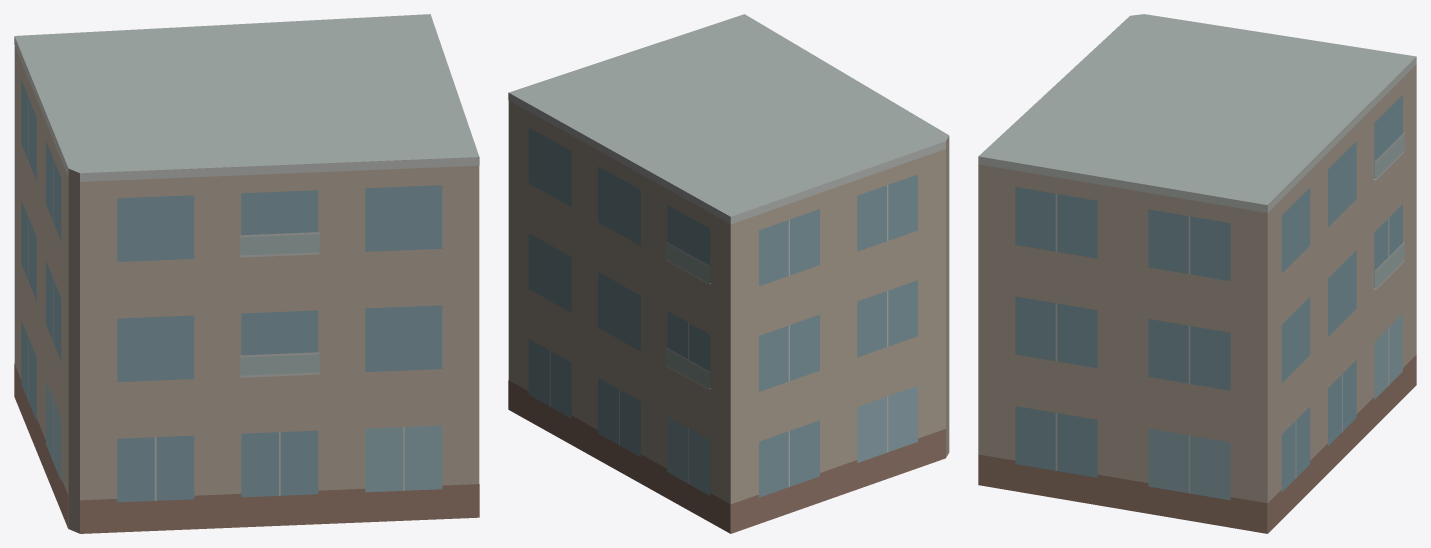
The model's file is survey-upis-32932150.glb.
3 views of the same model, side by side, from view 1: azimuth 30°, elevation 25°; view 2: azimuth 150°, elevation 25°; view 3: azimuth 270°, elevation 25° (orthographic). The views are drawn at different scales.
Parts seen in each view (by area): view 1: survey-upis-32932150.tmp; view 2: survey-upis-32932150.tmp; view 3: survey-upis-32932150.tmp.
Boxes of the visible parts, bbox=[...] form: survey-upis-32932150.tmp: bbox=[14, 14, 479, 533]; survey-upis-32932150.tmp: bbox=[508, 14, 949, 533]; survey-upis-32932150.tmp: bbox=[978, 14, 1416, 533].
Size of the model in its own units: 12.73 by 10.2 by 12.33.
